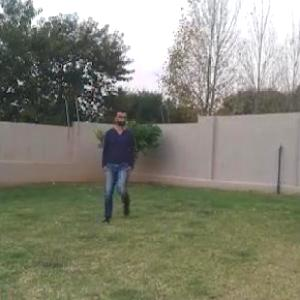follow: (102, 104, 132, 221)
